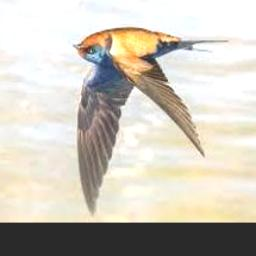Swallow: (71, 28, 229, 217)
